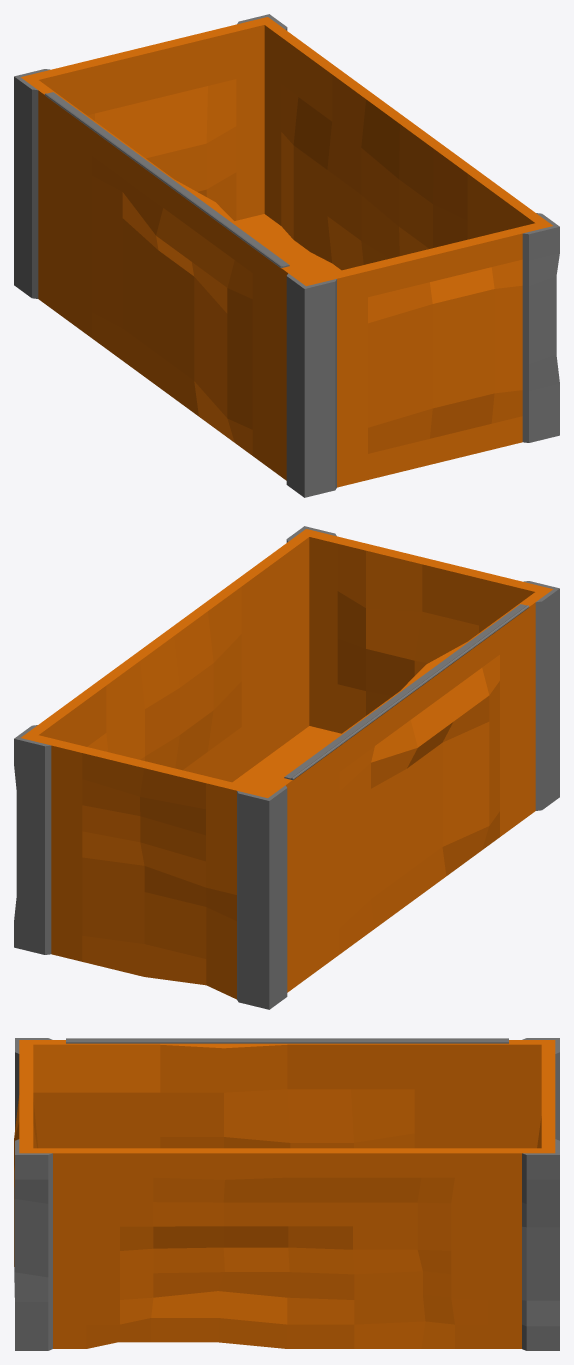
Rendered from ChestMain.fbx.
3 views of the same model, one above another, from view 1: azimuth 30°, elevation 25°; view 2: azimuth 150°, elevation 25°; view 3: azimuth 270°, elevation 25° (orthographic). The views are drawn at different scales.
Visible parts, largest first — view 1: Cube.002; view 2: Cube.002; view 3: Cube.002.
Boxes of the visible parts, x1=… form: Cube.002: x1=14, y1=14, x2=559, y2=497; Cube.002: x1=14, y1=526, x2=559, y2=1009; Cube.002: x1=14, y1=1038, x2=559, y2=1350.
Bounding box in the file's own units: 314 × 244 × 611.
